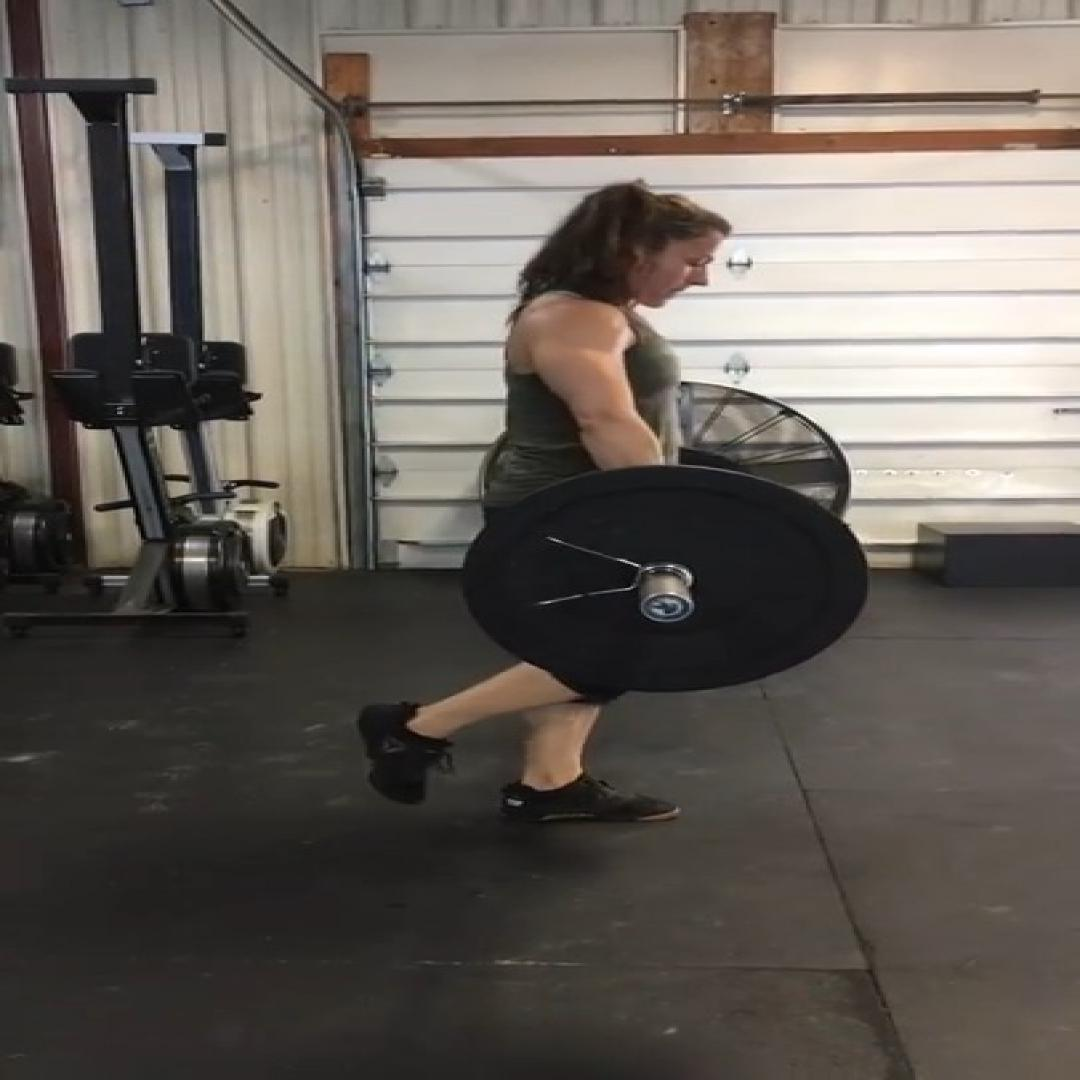Bar: (638, 591, 697, 624)
Barbell: (460, 465, 867, 693)
